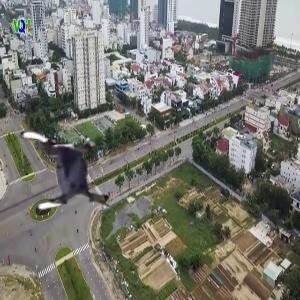drone: (16, 120, 119, 223)
